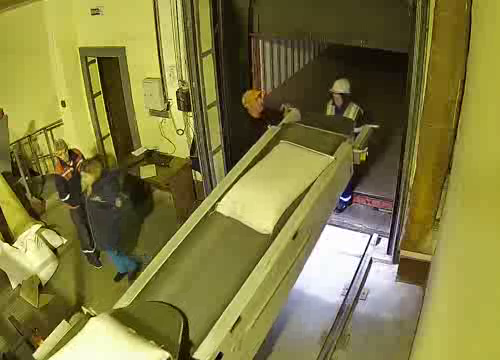bag: (46, 312, 174, 360)
